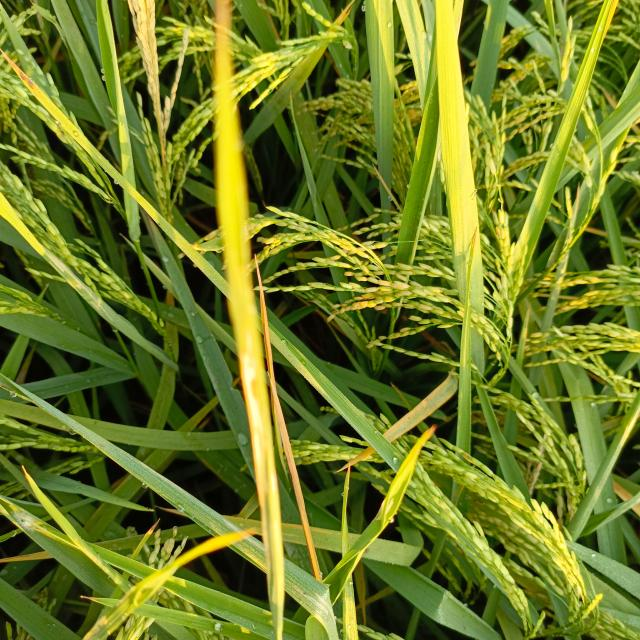Bacterial leaf blight: (37, 244, 118, 323)
